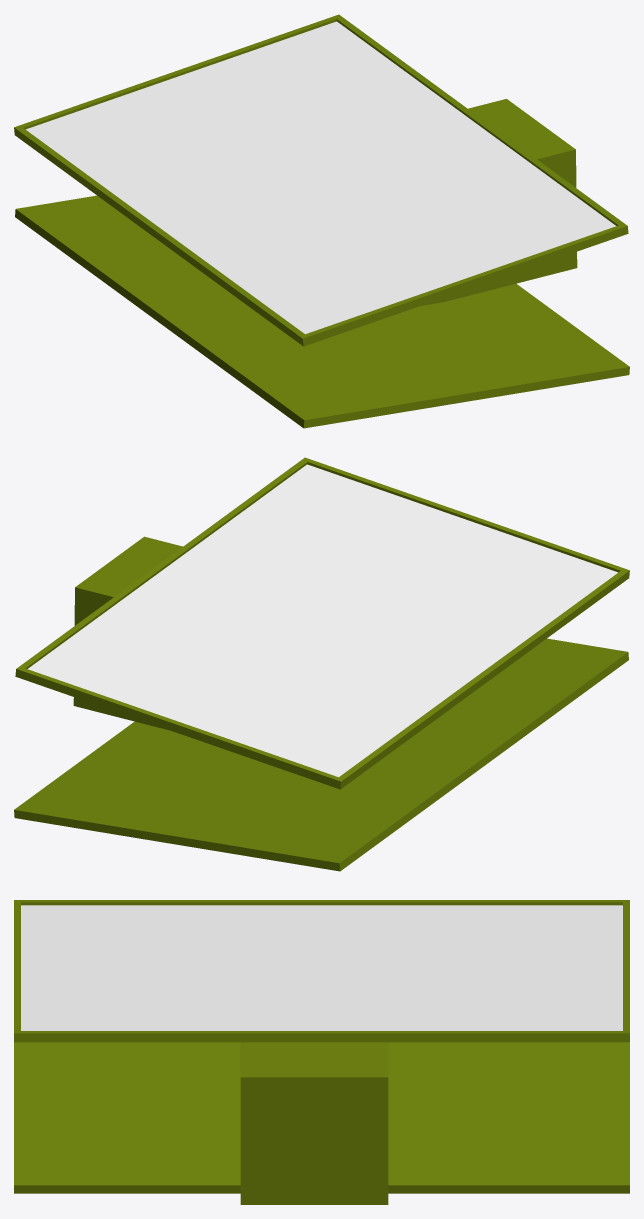
Rendered from OBJ_REP_DoubleTV.obj.
3 views of the same model, one above another, from view 1: azimuth 30°, elevation 25°; view 2: azimuth 150°, elevation 25°; view 3: azimuth 270°, elevation 25° (orthographic). The views are drawn at different scales.
Parts seen in each view (by area): view 1: Doble_TV005; view 2: Doble_TV005; view 3: Doble_TV005.
Boxes of the visible parts, <box> form: Doble_TV005: <box>14,14,629,428</box>; Doble_TV005: <box>14,457,629,871</box>; Doble_TV005: <box>14,900,629,1204</box>.
Size of the model in its own units: 24.42 by 9.17 by 32.09.
